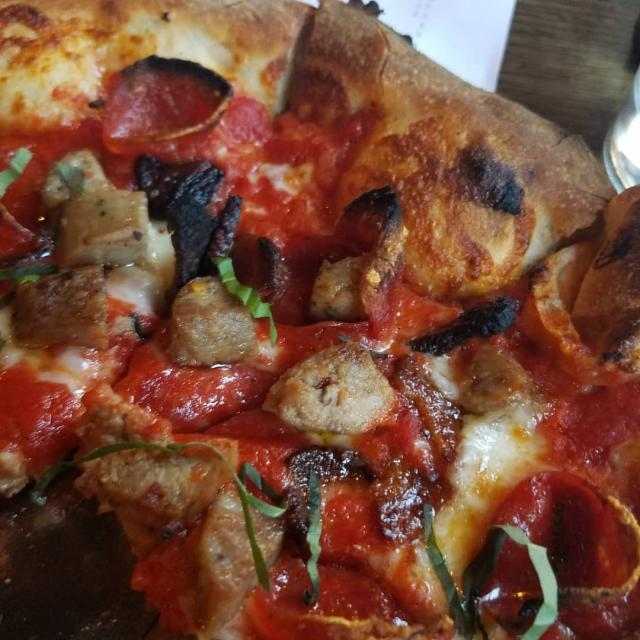pepperoni: (488, 471, 630, 636), (106, 56, 234, 159), (319, 188, 402, 343), (281, 445, 393, 554)
pizza: (0, 0, 640, 640)
